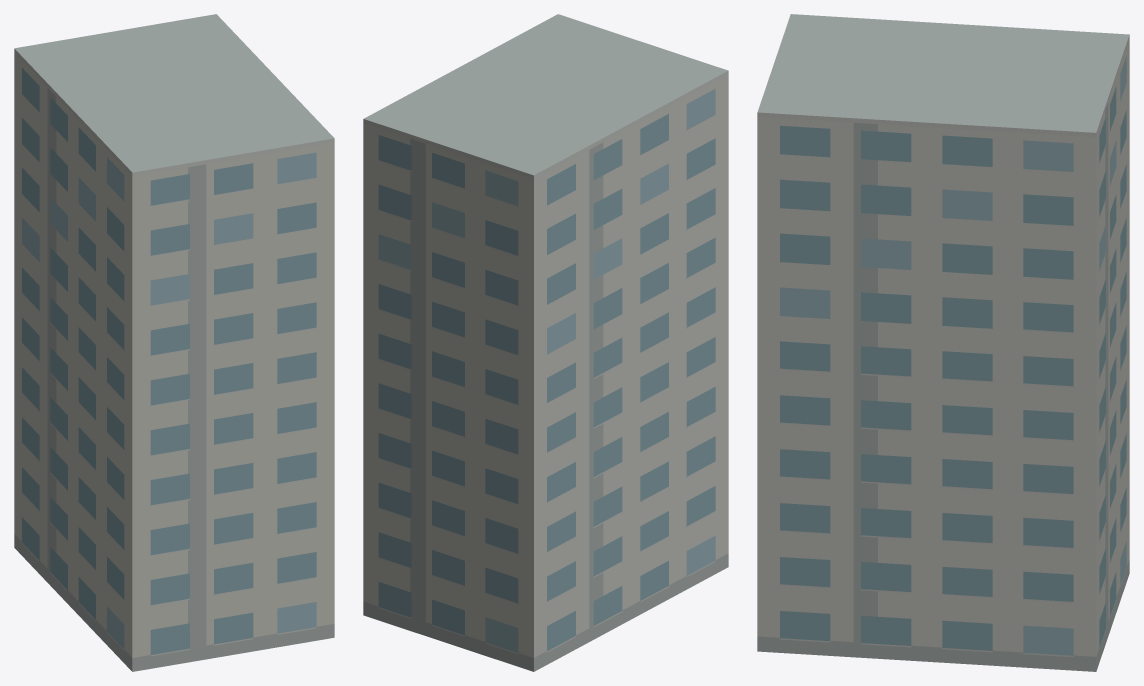
The model's file is residential-c266d83d-06be-45e0-83ae-347a8cacd63a.glb.
The picture shows the model from 3 angles, left to right: view 1: azimuth 30°, elevation 25°; view 2: azimuth 150°, elevation 25°; view 3: azimuth 270°, elevation 25°; orthographic projection. The views are drawn at different scales.
Parts seen in each view (by area): view 1: residential-c266d83d-06be-45e0-83ae-347a8cacd63a.tmp; view 2: residential-c266d83d-06be-45e0-83ae-347a8cacd63a.tmp; view 3: residential-c266d83d-06be-45e0-83ae-347a8cacd63a.tmp.
Part boxes in pixels (x1,y1,x2,y2): residential-c266d83d-06be-45e0-83ae-347a8cacd63a.tmp: (14,14,334,671); residential-c266d83d-06be-45e0-83ae-347a8cacd63a.tmp: (363,14,728,671); residential-c266d83d-06be-45e0-83ae-347a8cacd63a.tmp: (757,14,1129,671).
Bounding box in the file's own units: 13.72 × 29 × 18.16.
